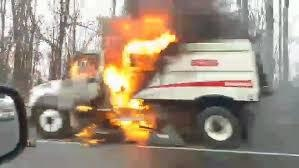fire: (89, 9, 175, 143)
